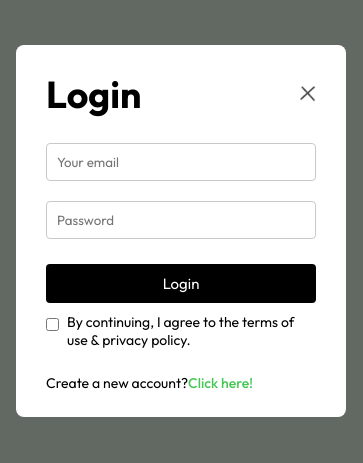
Test: Login Component › switches to sign up form
The width and height of the screenshot is (363, 463).
Click the text "Click here!": point(220, 383) 188,374 -> 253,392
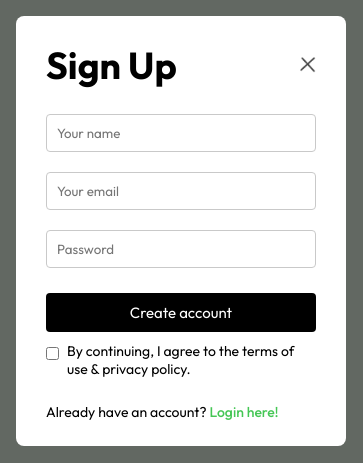
Expected: the field with placeholder "Your name" is shown, 46,114 -> 316,152
Expected: the button reads "Create account", 46,293 -> 316,332
